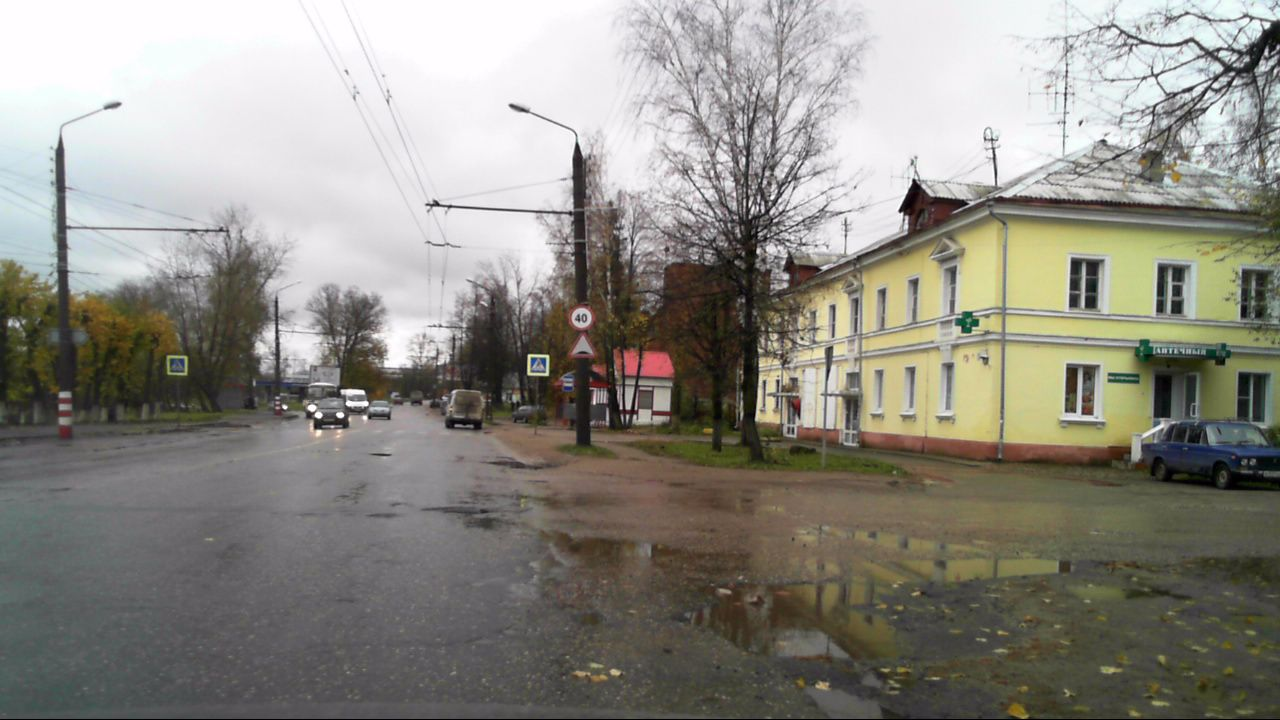speed_warning_40: (568, 304, 593, 330)
